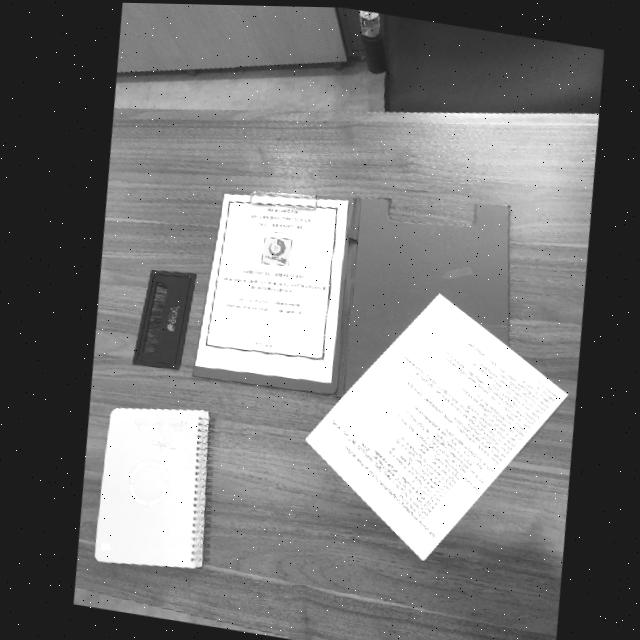document: (306, 294, 567, 560), (195, 195, 347, 383), (95, 409, 209, 569)
